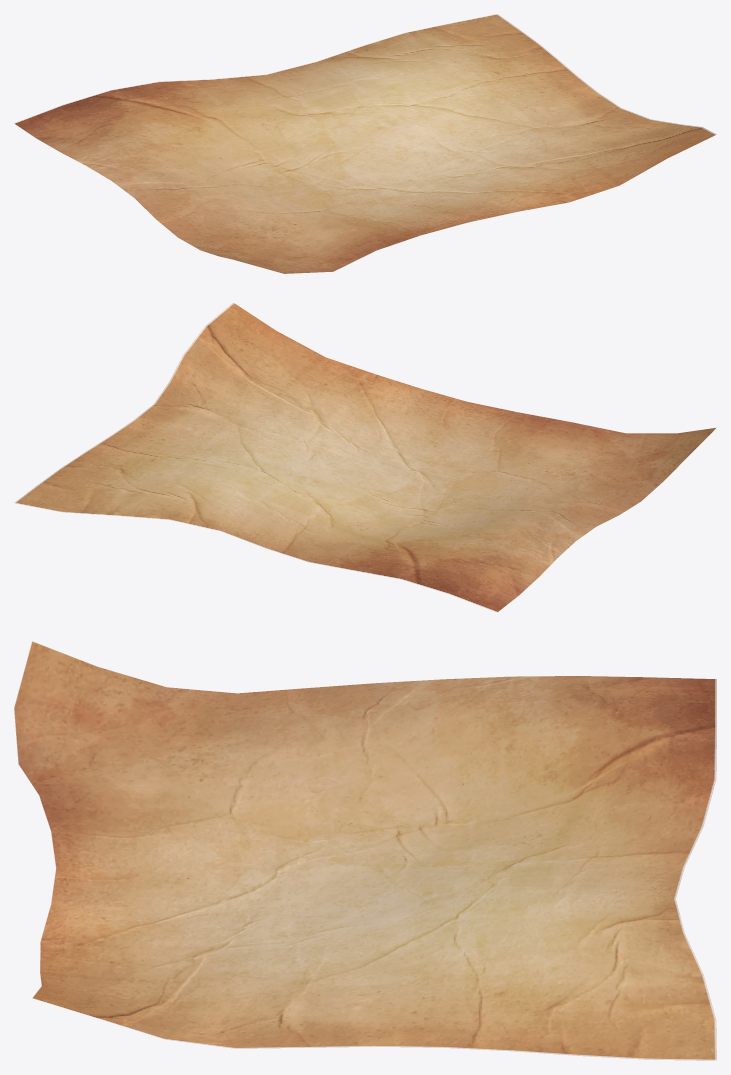
Rendered from papierMud.fbx.
3 renders of one model, top to bottom at view 1: azimuth 30°, elevation 25°; view 2: azimuth 150°, elevation 25°; view 3: azimuth 270°, elevation 25°, orthographic. The views are drawn at different scales.
Visible parts, largest first — view 1: pPlane1; view 2: pPlane1; view 3: pPlane1.
Part boxes in pixels (x1,y1,x2,y2): pPlane1: [14, 14, 716, 273]; pPlane1: [14, 302, 716, 612]; pPlane1: [14, 641, 716, 1060].
Size of the model in its own units: 10.36 by 0.9965 by 8.23.
